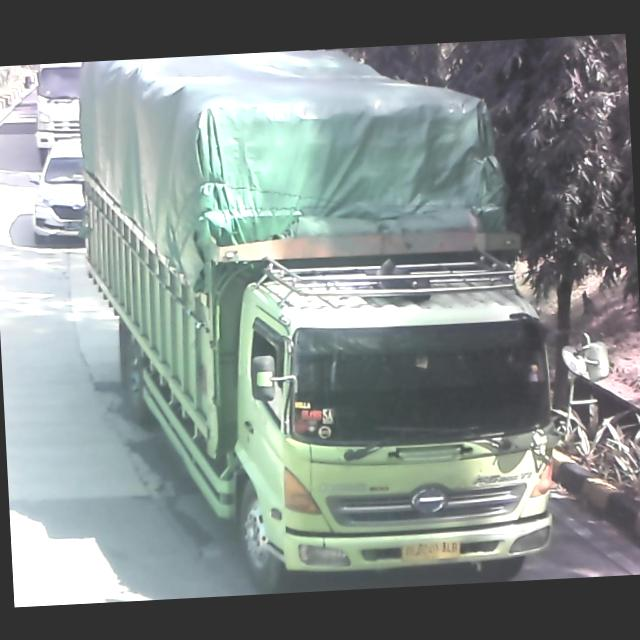plate: (397, 535, 469, 566)
